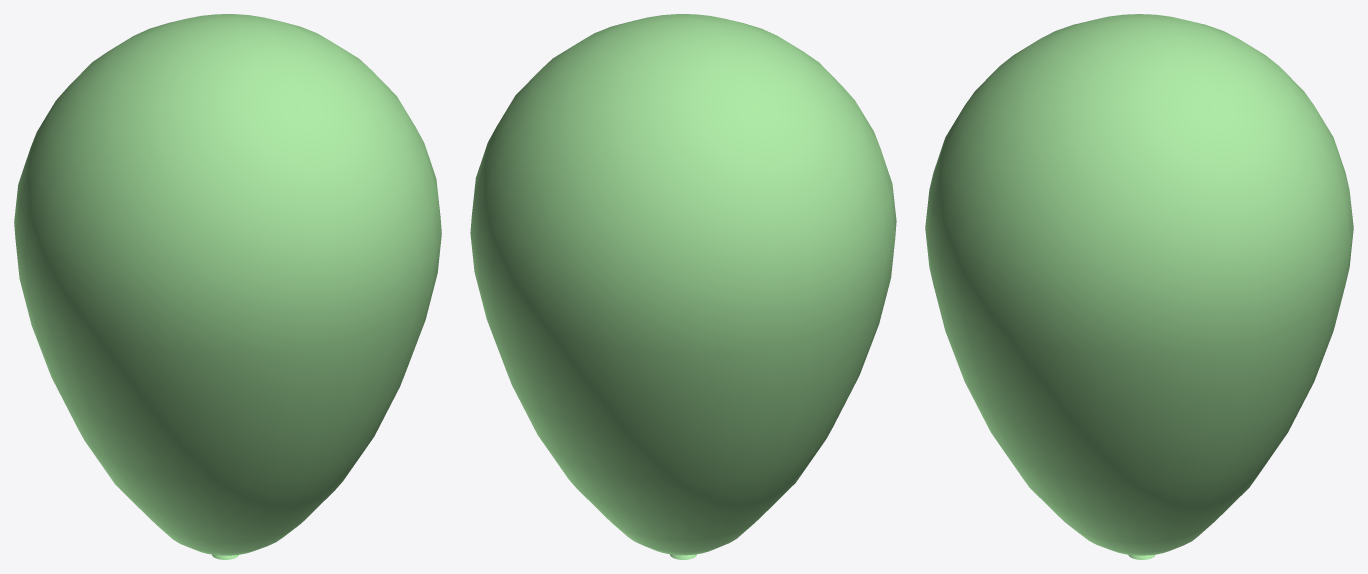
The model's file is balloon.glb.
The picture shows the model from 3 angles, left to right: view 1: azimuth 30°, elevation 25°; view 2: azimuth 150°, elevation 25°; view 3: azimuth 270°, elevation 25°; orthographic projection.
Parts seen in each view (by area): view 1: Balloon.001; view 2: Balloon.001; view 3: Balloon.001.
Boxes of the visible parts, x1,y1,x2,y2 form: Balloon.001: [14, 14, 441, 559]; Balloon.001: [470, 14, 896, 559]; Balloon.001: [925, 14, 1353, 559].
Size of the model in its own units: 0.3637 by 0.4879 by 0.3637.
